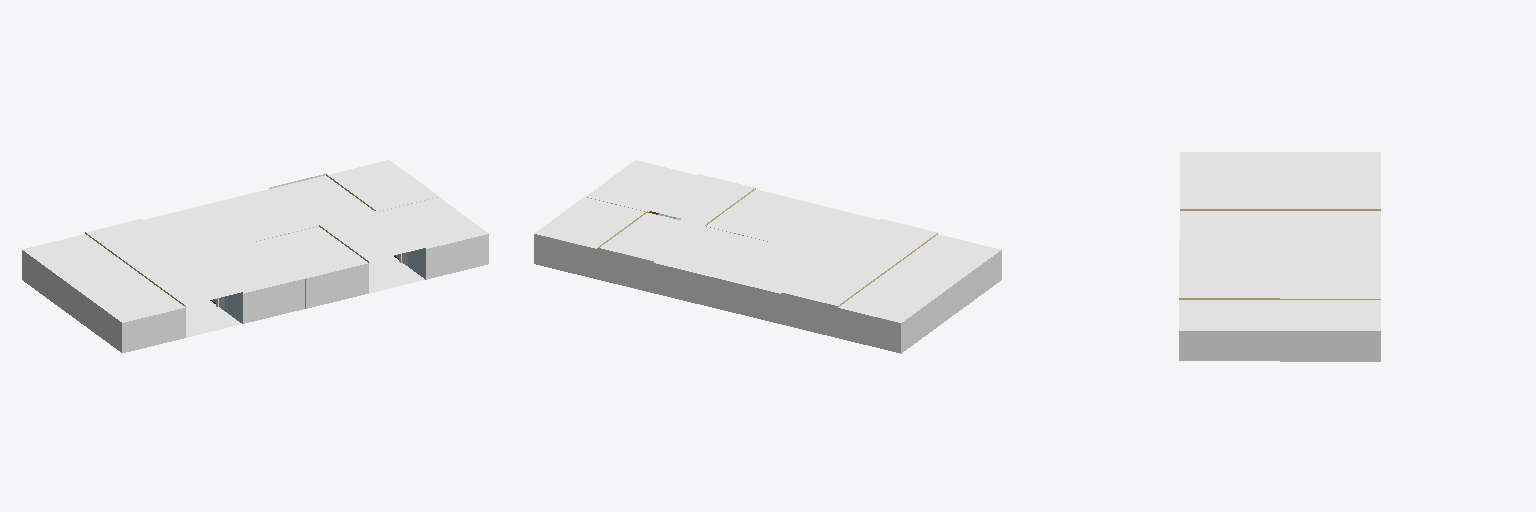
Rendered from map1.obj.
3 renders of one model, left to right at view 1: azimuth 30°, elevation 25°; view 2: azimuth 150°, elevation 25°; view 3: azimuth 270°, elevation 25°, orthographic.
Visible parts, largest first — view 1: Mesh1 Model; view 2: Mesh1 Model; view 3: Mesh1 Model.
Part boxes in pixels (x1,y1,x2,y2): Mesh1 Model: (22,160,488,352); Mesh1 Model: (534,160,1001,353); Mesh1 Model: (1179,152,1380,361).
Bounding box in the file's own units: 36.65 × 3.05 × 17.42.